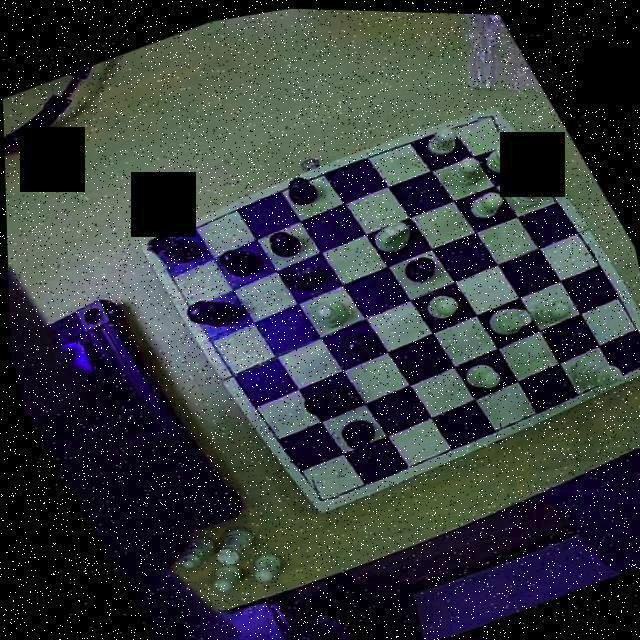chess-table-corners: (297, 468, 344, 513), (139, 230, 184, 272), (468, 100, 511, 136), (620, 333, 640, 373)
